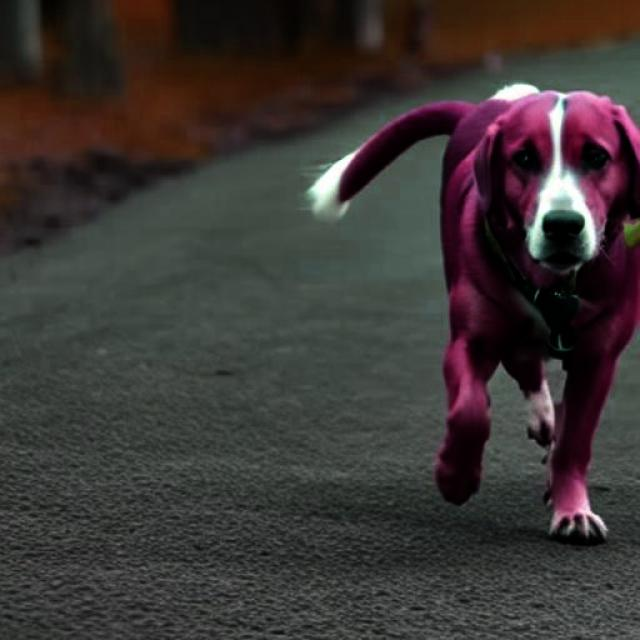Dog: (310, 84, 640, 544)
